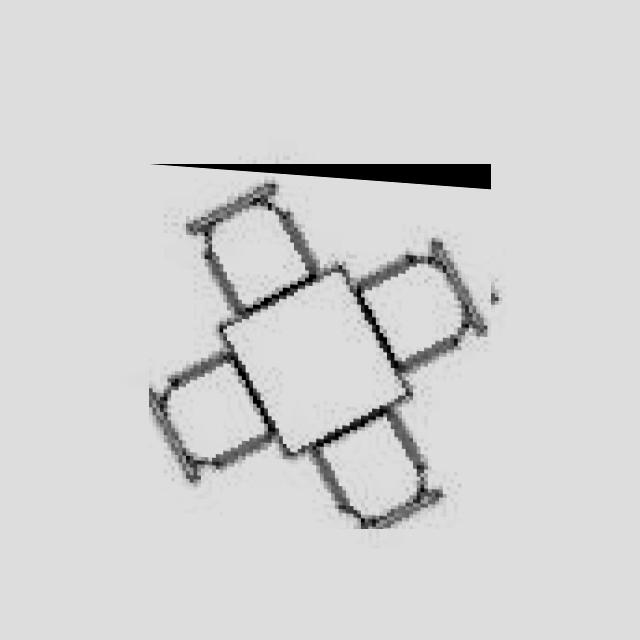table: (149, 164, 491, 529)
